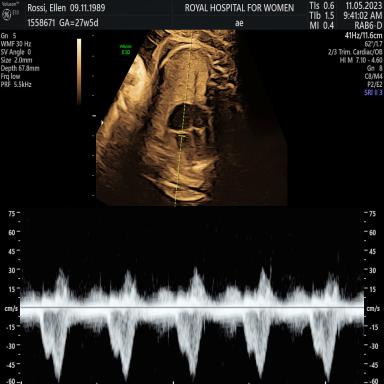Ultrasound-Waves: (27, 216, 360, 384)
